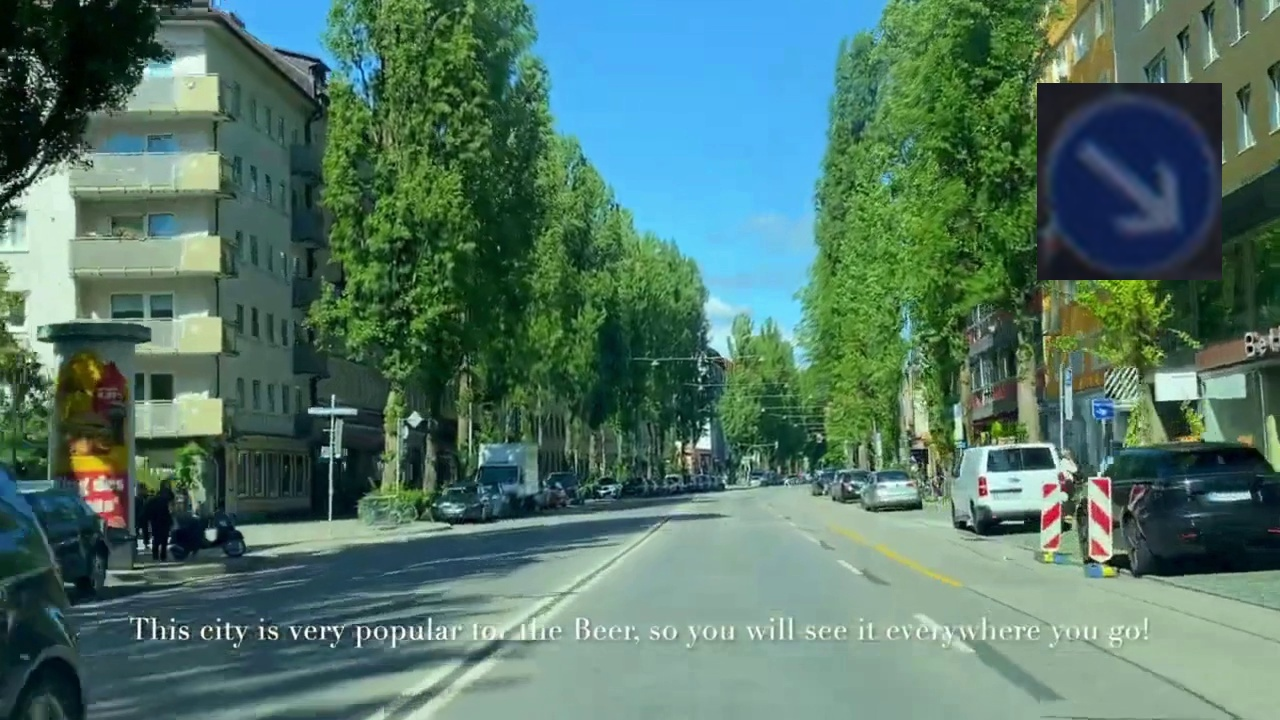Keep right: (1037, 83, 1222, 280)
